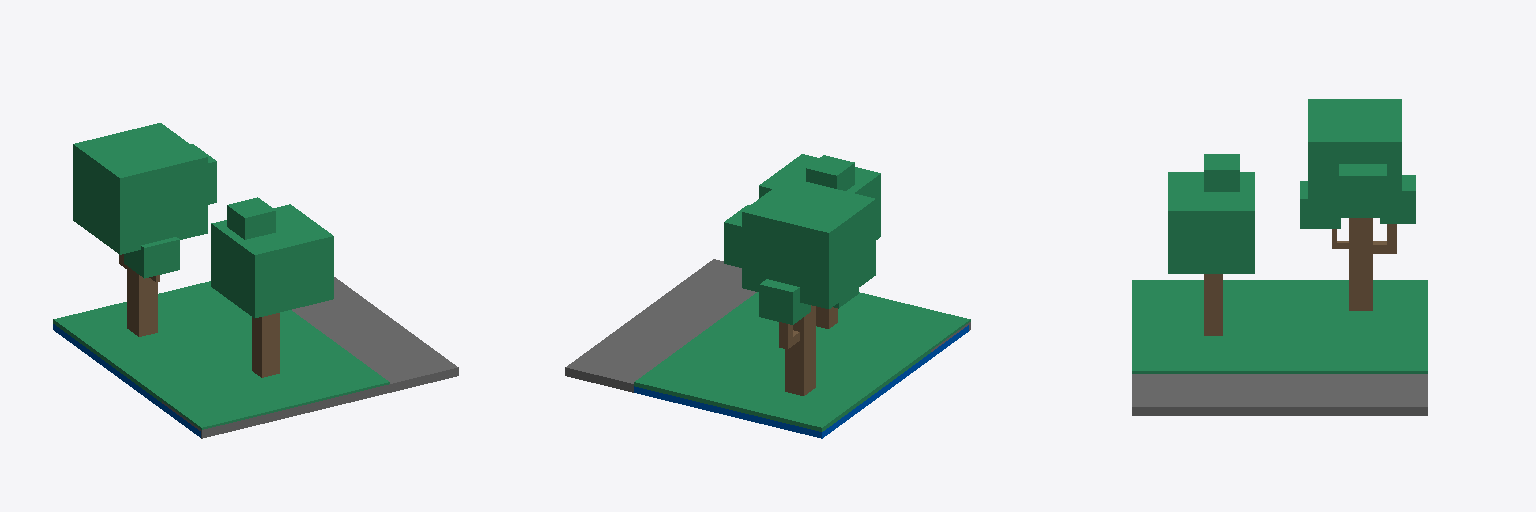
The picture shows the model from 3 angles: view 1: azimuth 30°, elevation 25°; view 2: azimuth 150°, elevation 25°; view 3: azimuth 270°, elevation 25°; orthographic projection.
Size of the model in its own units: 123 by 89 by 123.
1 materials, 1 textured.